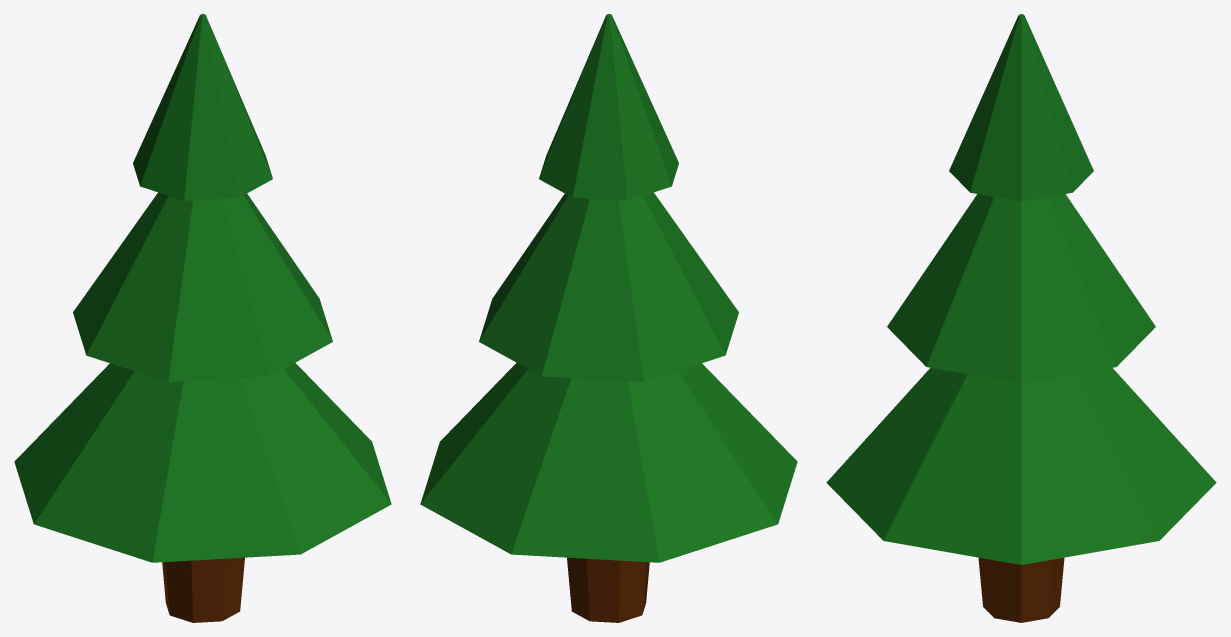
File: PineTree.fbx
The picture shows the model from 3 angles, left to right: view 1: azimuth 30°, elevation 25°; view 2: azimuth 150°, elevation 25°; view 3: azimuth 270°, elevation 25°; orthographic projection.
Visible parts, largest first — view 1: Cylinder; view 2: Cylinder; view 3: Cylinder.
Boxes of the visible parts, bbox=[...] form: Cylinder: bbox=[14, 14, 391, 622]; Cylinder: bbox=[420, 14, 797, 622]; Cylinder: bbox=[826, 14, 1216, 622].
Size of the model in its own units: 3.72 by 6.22 by 3.72.
